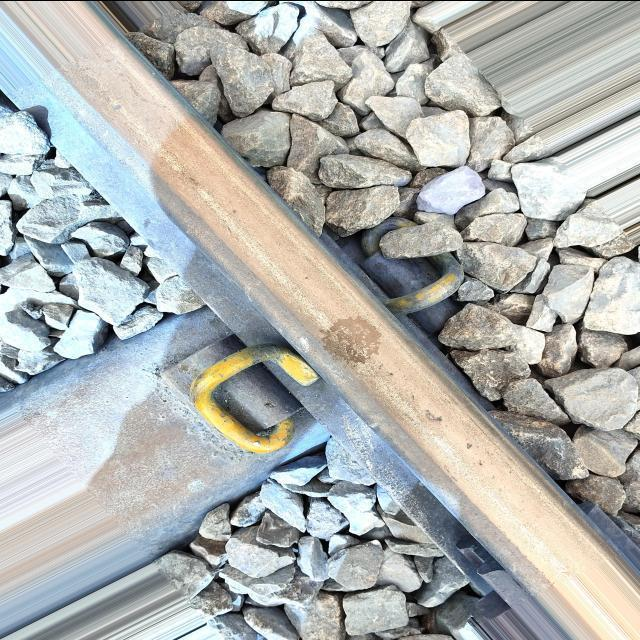head_checks_low: (318, 315, 384, 366), (463, 440, 486, 466), (423, 407, 447, 422)
